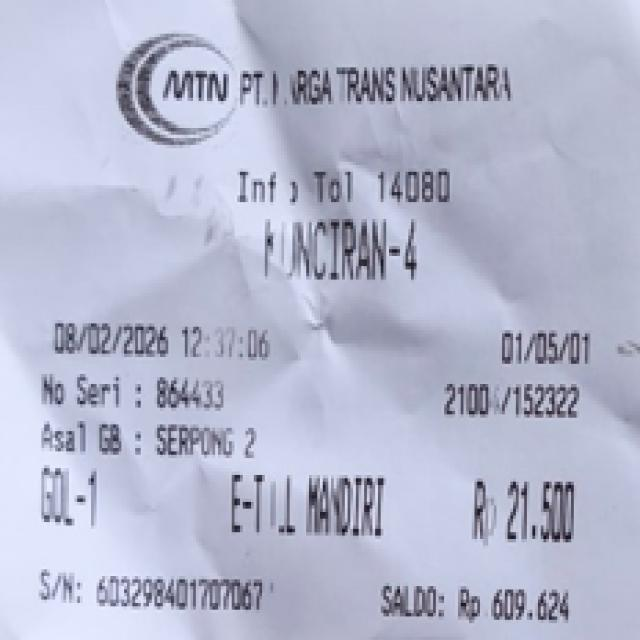date: (51, 314, 286, 368)
store: (235, 63, 516, 113)
total: (461, 477, 591, 552)
